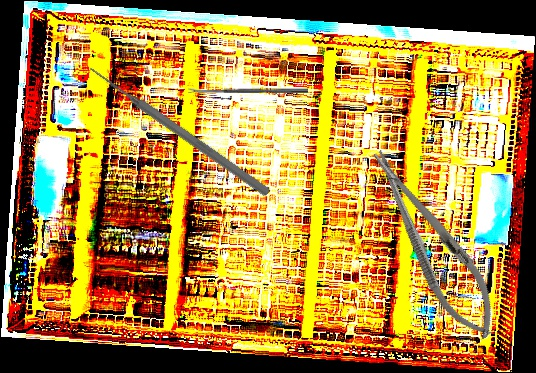Needle Holder: (354, 137, 513, 350)
Pusher: (84, 61, 273, 199)
Surgical Spoon: (188, 88, 308, 93)
